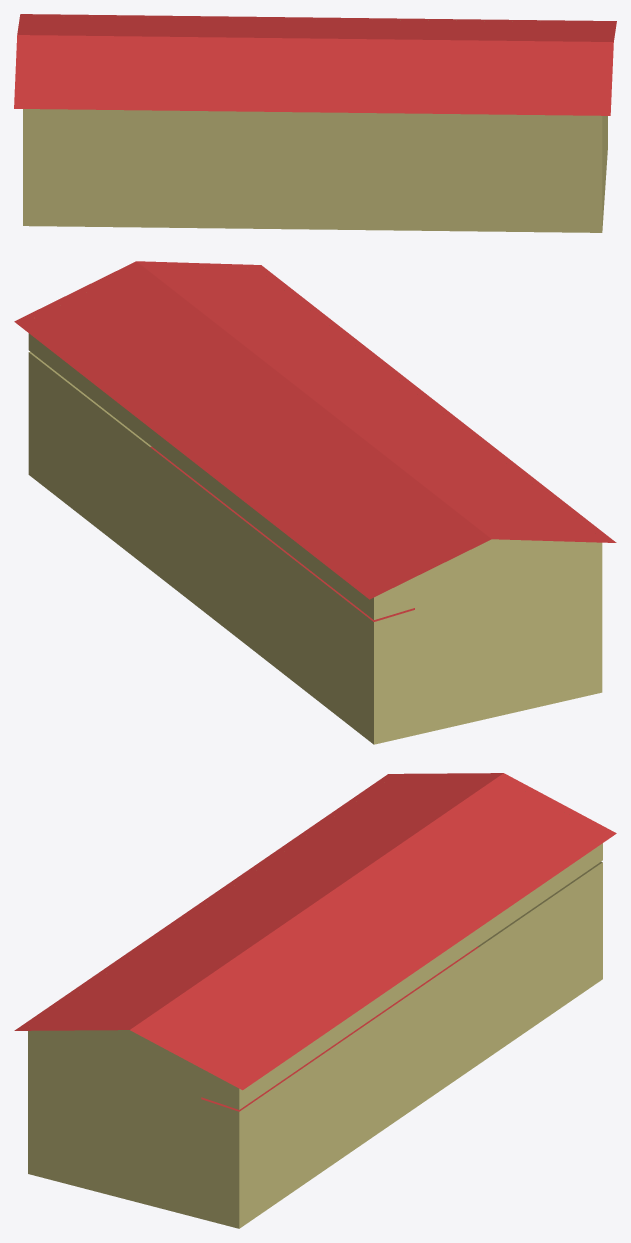
3 views of the same model, one above another, from view 1: azimuth 30°, elevation 25°; view 2: azimuth 150°, elevation 25°; view 3: azimuth 270°, elevation 25° (orthographic). The views are drawn at different scales.
Size of the model in its own units: 36.36 by 29.28 by 9.4.
